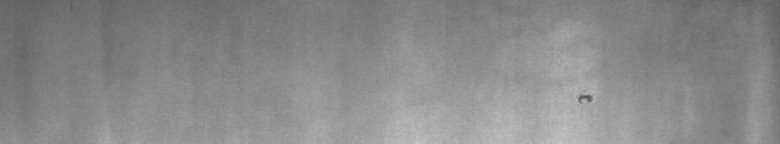fi: (575, 88, 597, 108)
